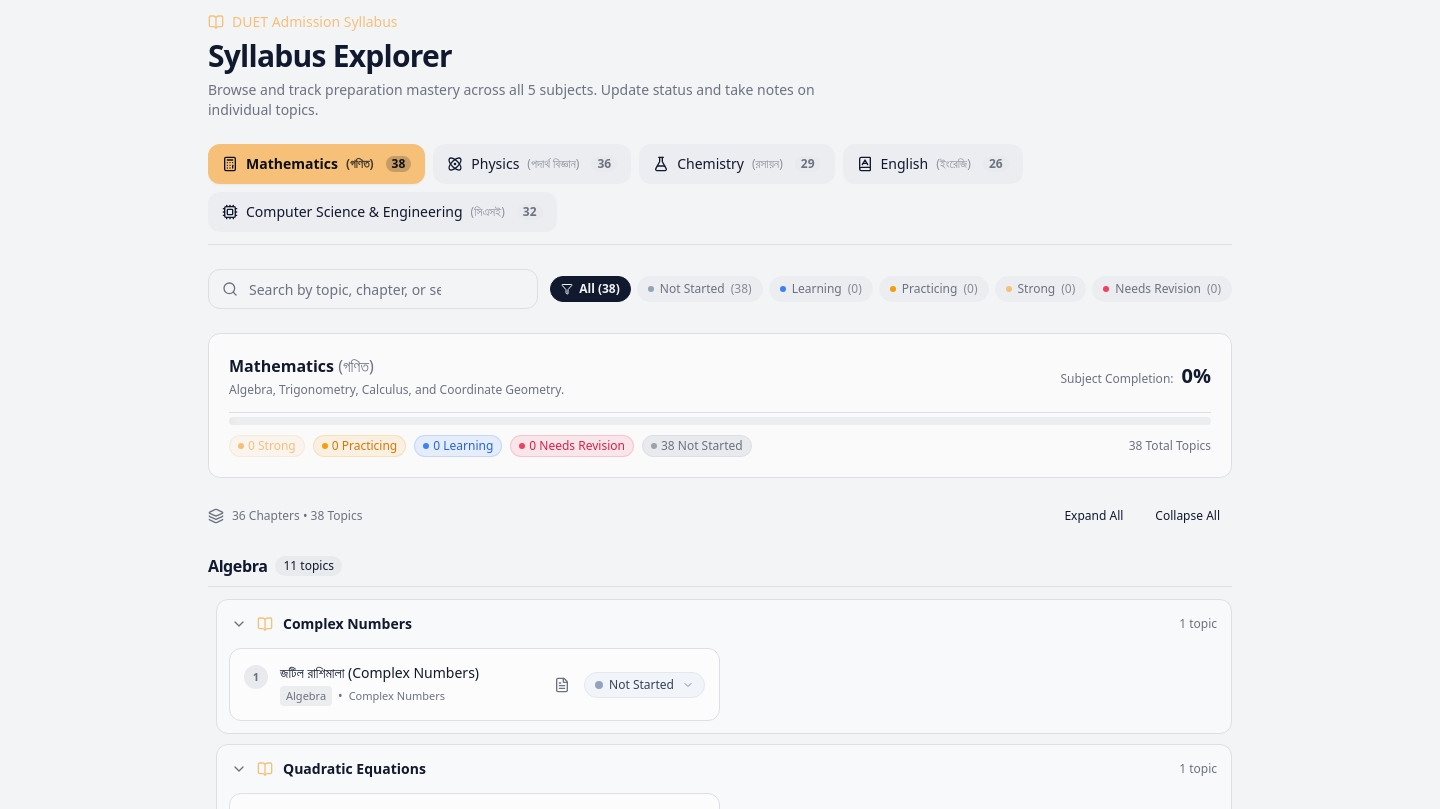
it: SyllabusPage › displays empty state when search finds no results and can reset
The width and height of the screenshot is (1440, 809).
Type "nonexistent-query-zzz" into the field with placeholder "Search by topic, chapter, or section name..." at x=373, y=289, box left=208, top=269, right=538, bottom=309
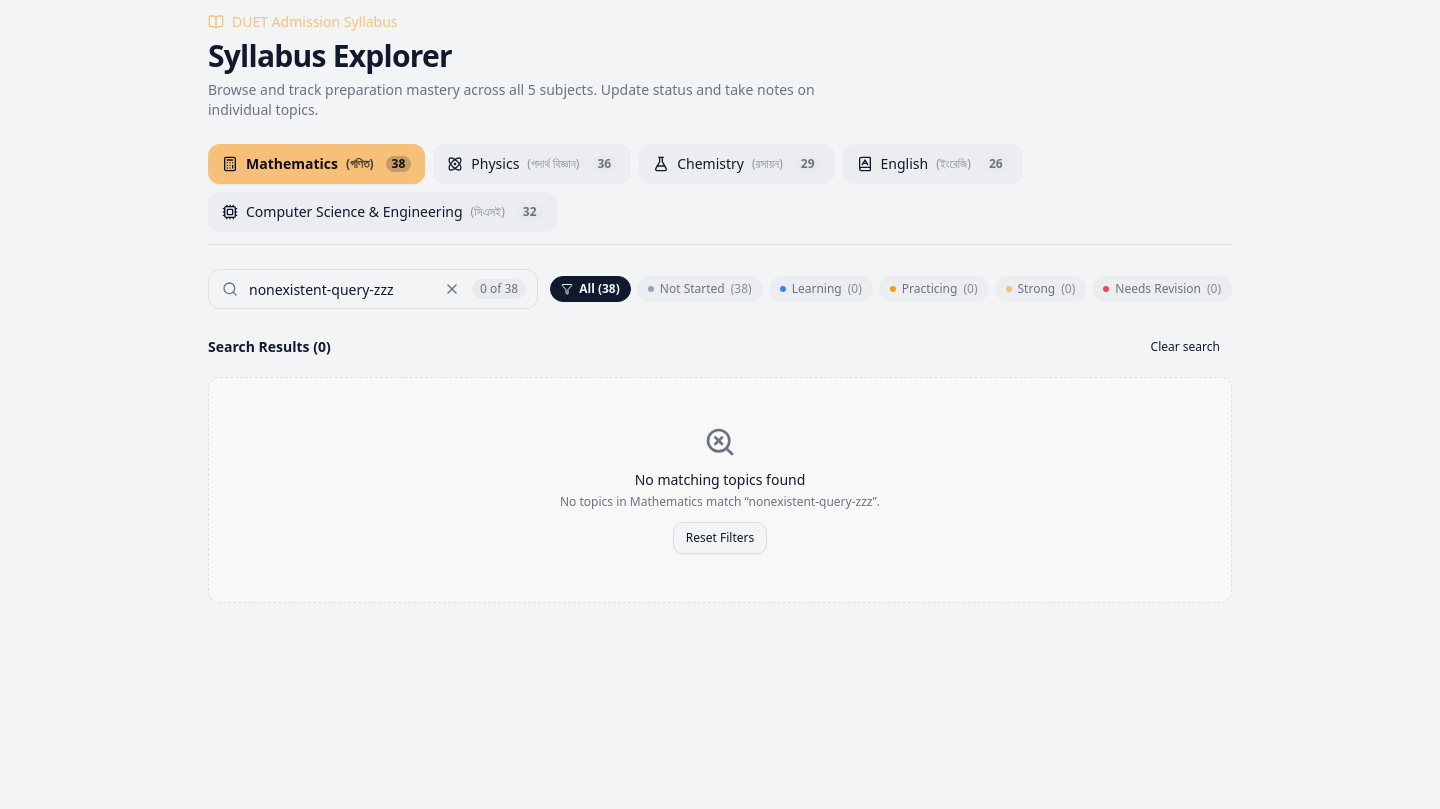
Result: the text "No matching topics found" is shown at left=635, top=470, right=805, bottom=489
Click the button "Reset Filters" at x=720, y=538, box left=673, top=522, right=767, bottom=554
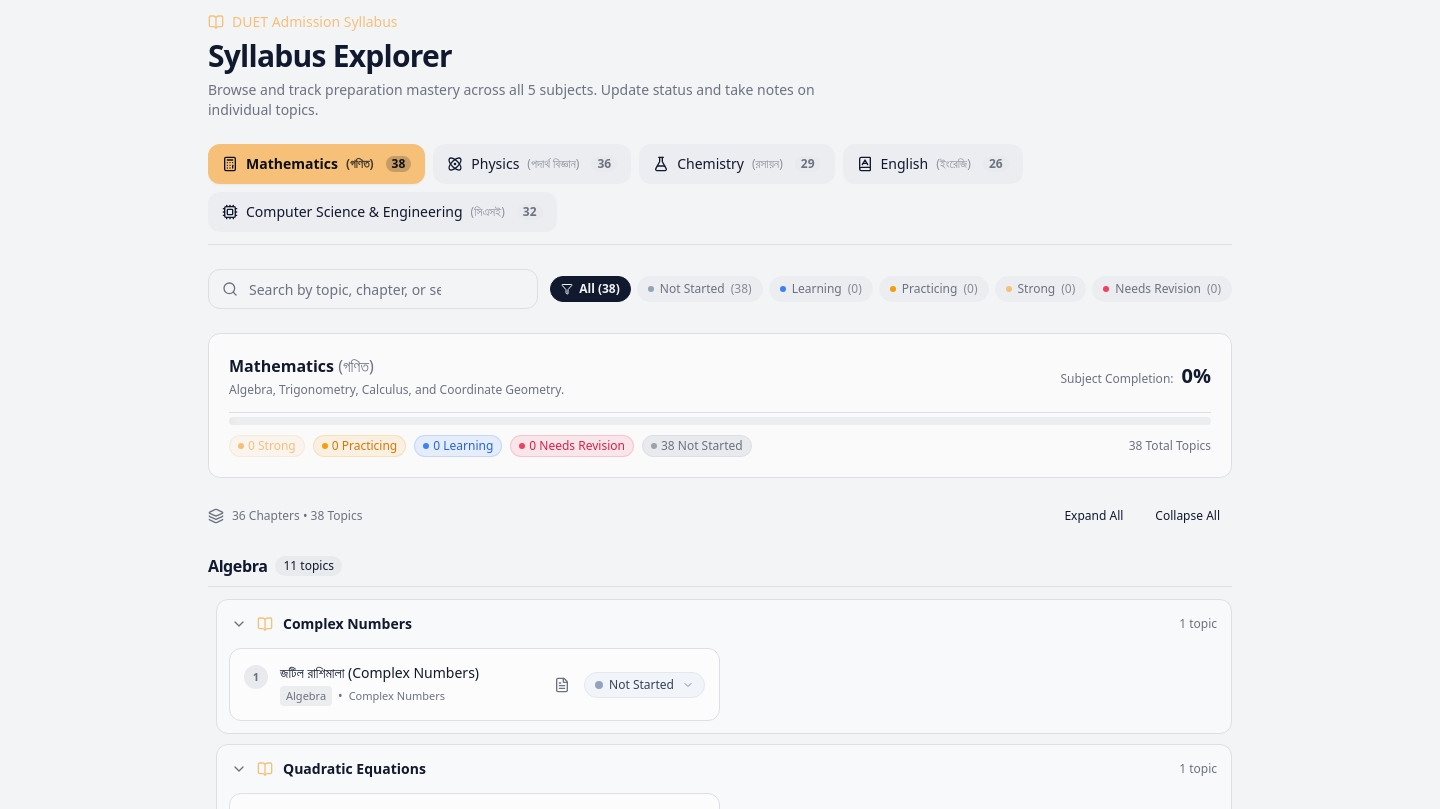
Result: the text "No matching topics found" is gone
